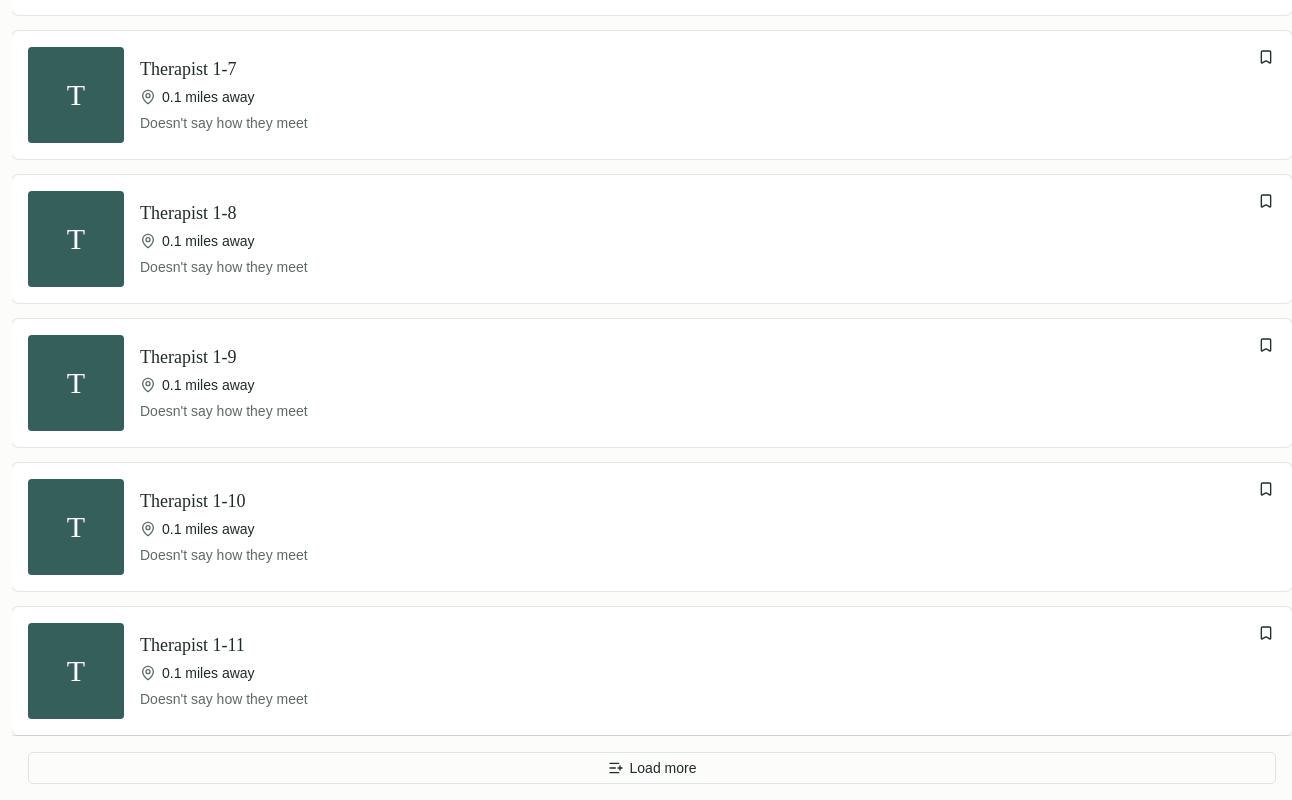
Test: Results › shows the next twelve from the batch in hand without asking UKCP again
The image size is (1292, 800).
(page scrolled)
Click the button "Load more".
click(652, 768)  # box [28,752,1276,784]
(page scrolled)
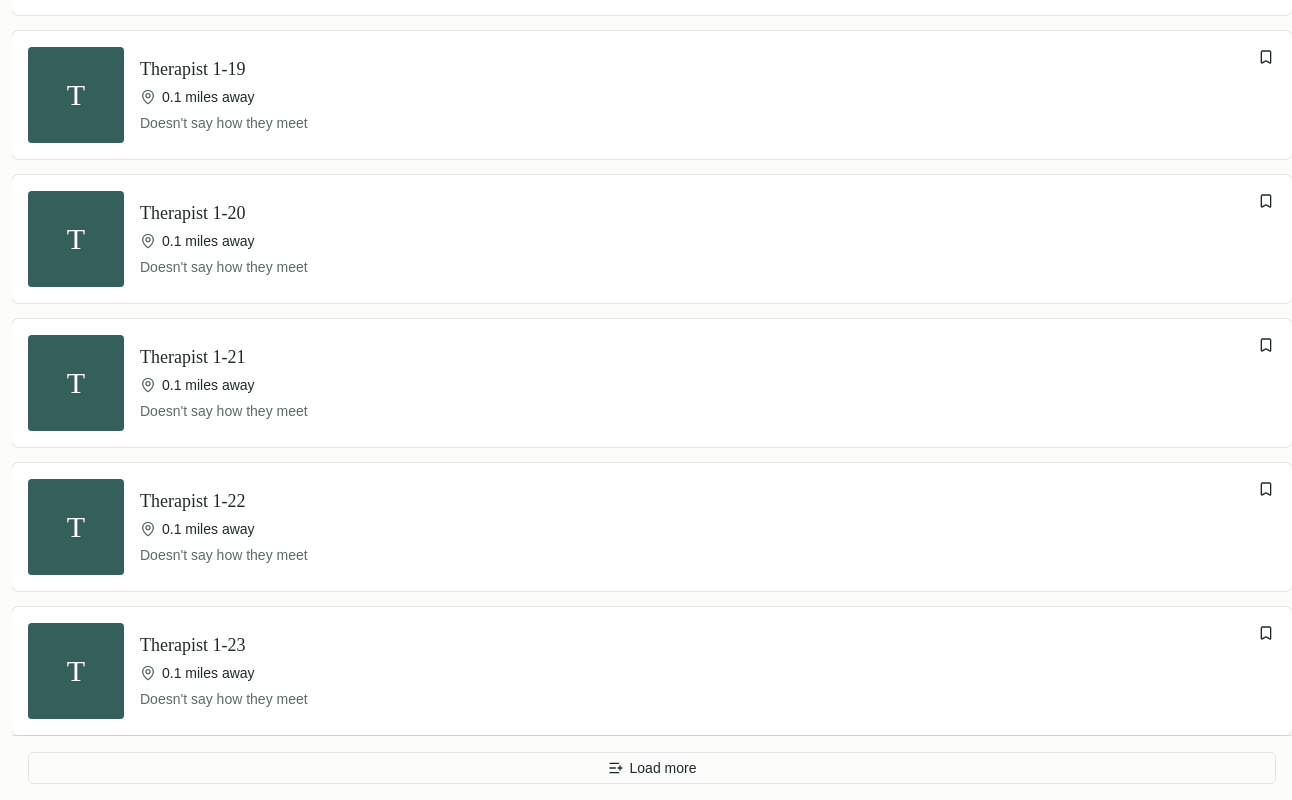
Click the button "Load more".
click(652, 768)  # box [28,752,1276,784]
(page scrolled)
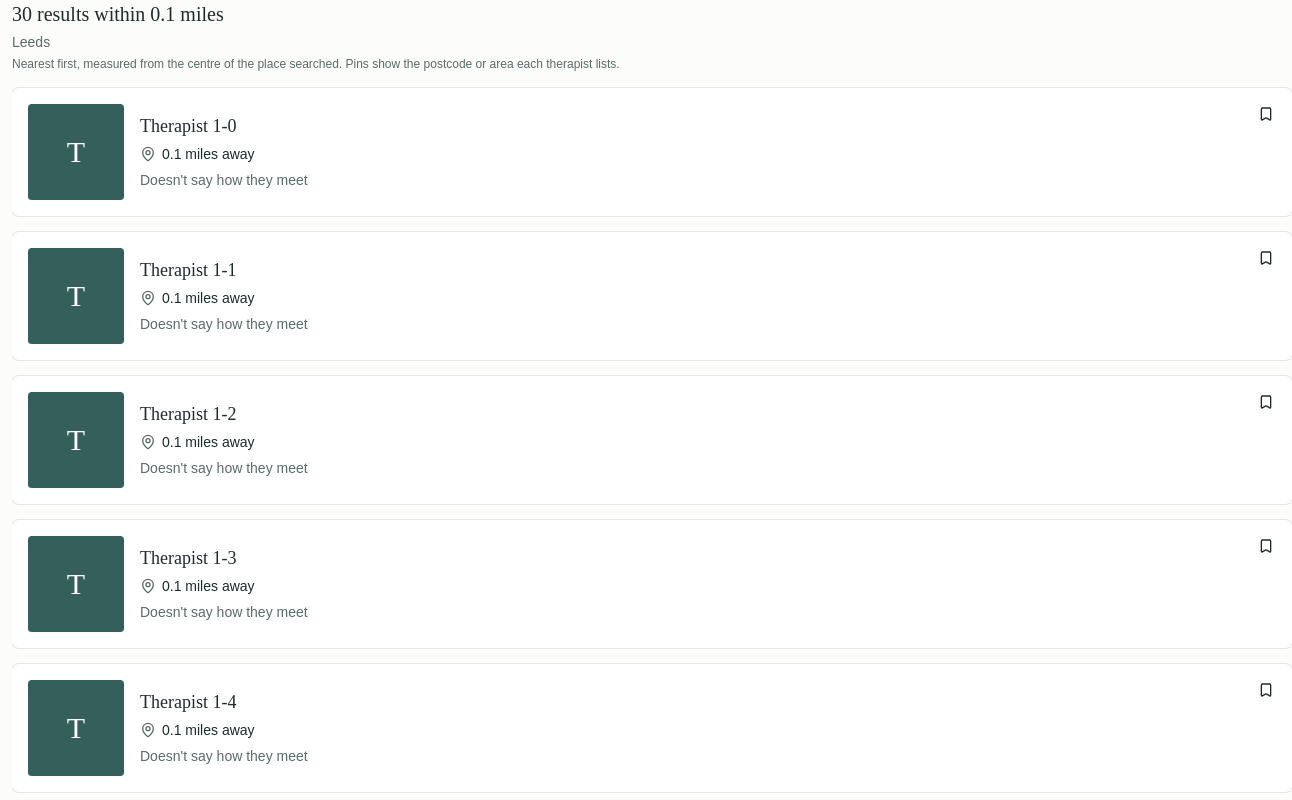
Check: the heading "30 results within 0.1 miles" is shown, box [12,3,224,25]
